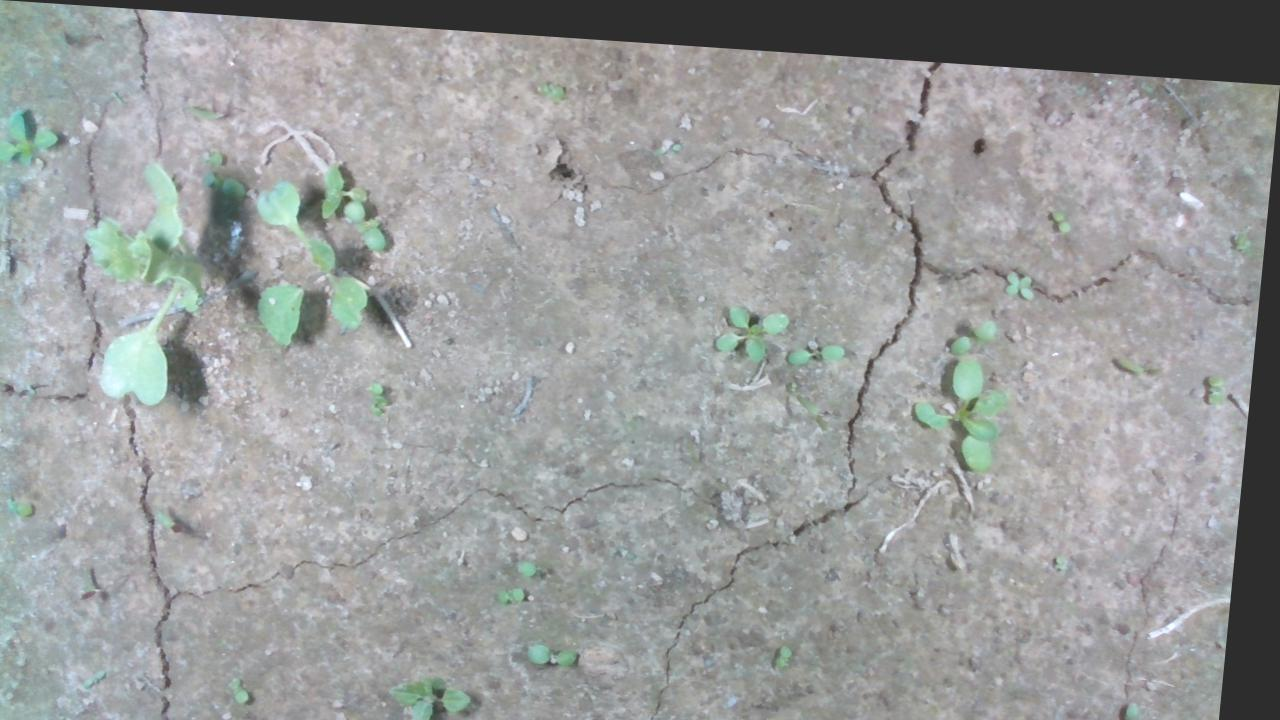weed: (792, 318, 864, 370), (537, 629, 599, 665), (1008, 251, 1045, 294), (5, 489, 52, 522), (368, 373, 399, 418), (1114, 331, 1156, 363), (235, 669, 271, 702), (504, 576, 546, 603), (781, 629, 814, 663), (528, 66, 567, 93), (1052, 193, 1082, 220)
